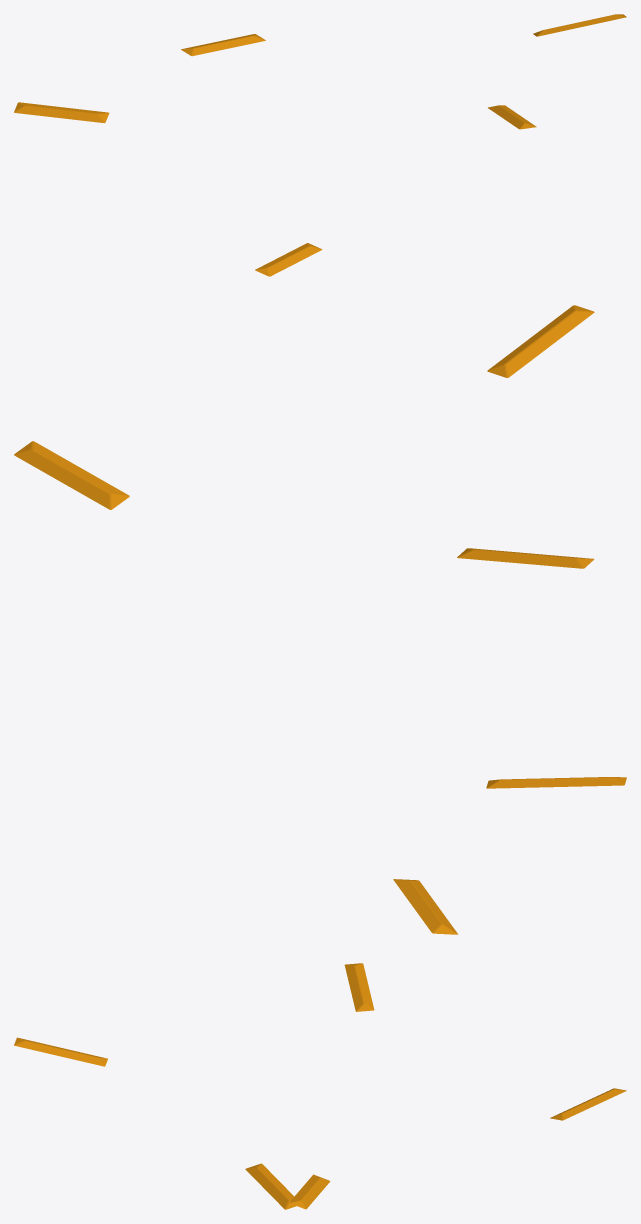
Rendered from Combined_ShadowCollisionPrefab.fbx.
3 renders of one model, top to bottom at view 1: azimuth 30°, elevation 25°; view 2: azimuth 150°, elevation 25°; view 3: azimuth 270°, elevation 25°, orthographic. The views are drawn at different scales.
Visible parts, largest first — view 1: Combined_ShadowCollisionPrefab; view 2: Combined_ShadowCollisionPrefab; view 3: Combined_ShadowCollisionPrefab.
Part boxes in pixels (x1,y1,x2,y2): Combined_ShadowCollisionPrefab: (14, 14, 626, 276); Combined_ShadowCollisionPrefab: (14, 305, 626, 934); Combined_ShadowCollisionPrefab: (14, 963, 626, 1209).
Size of the model in its own units: 83.62 by 35.94 by 97.84.
